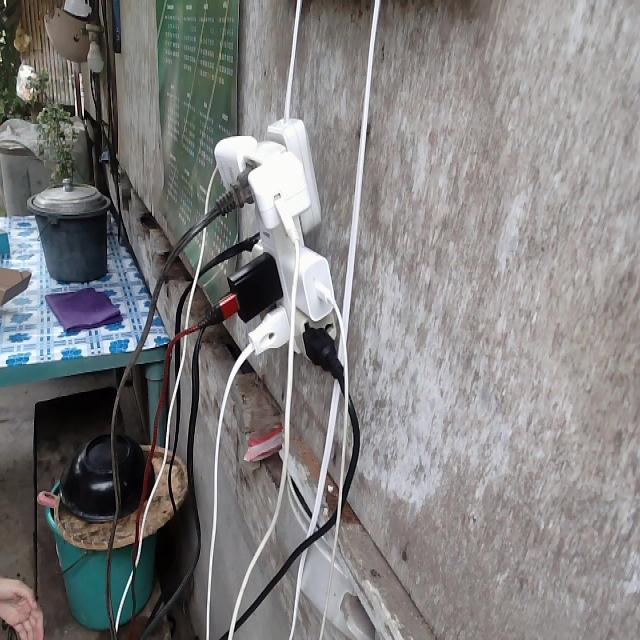-: (204, 114, 342, 394)
